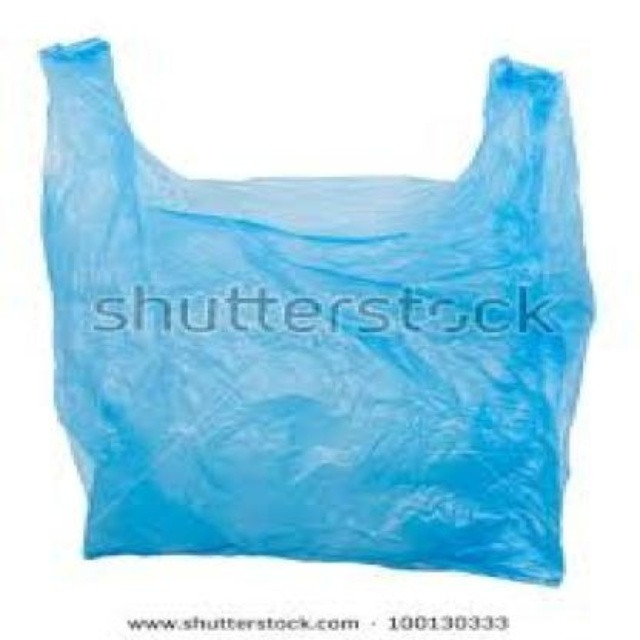trash: (42, 40, 591, 582)
